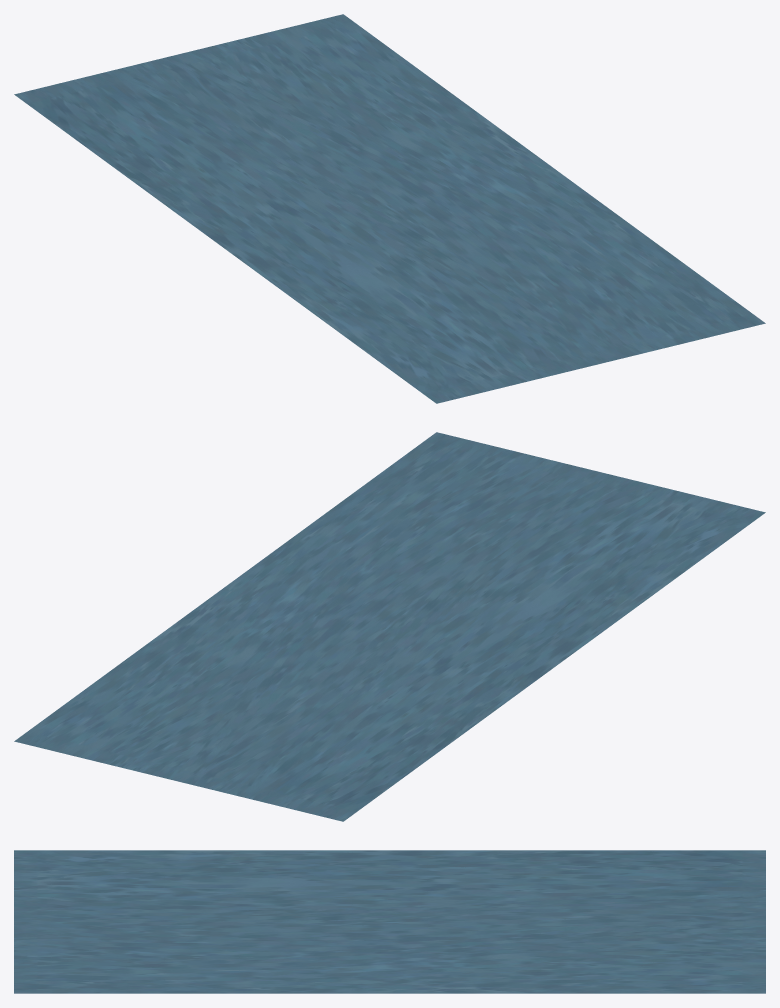
The model's file is Water.obj.
3 renders of one model, top to bottom at view 1: azimuth 30°, elevation 25°; view 2: azimuth 150°, elevation 25°; view 3: azimuth 270°, elevation 25°, orthographic. The views are drawn at different scales.
Size of the model in its own units: 21.54 by 0 by 47.86.
1 material, 1 textured.
